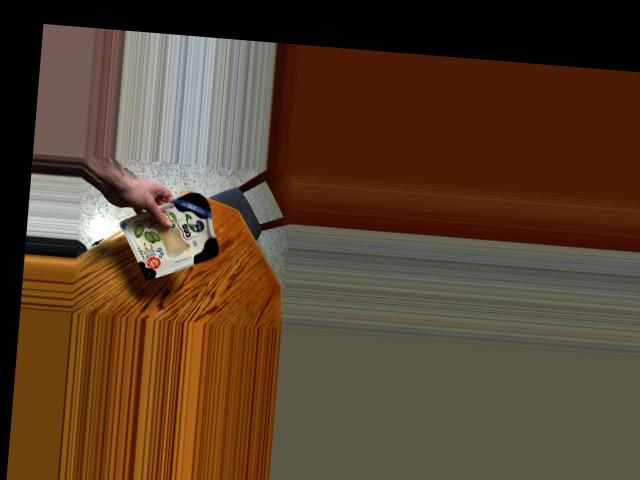cheese: (126, 182, 224, 280)
